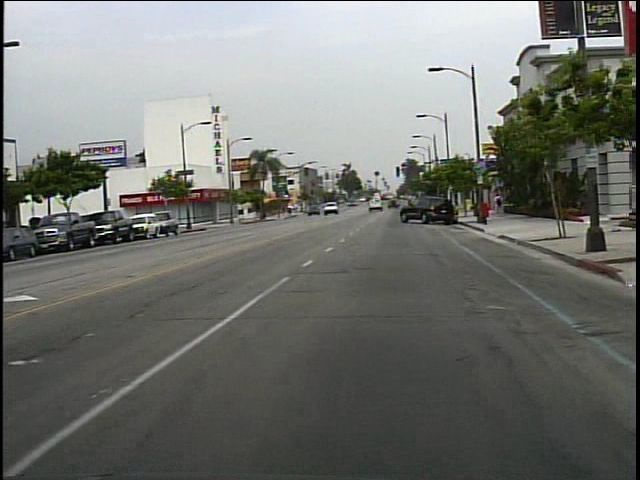person: (495, 190, 510, 220)
